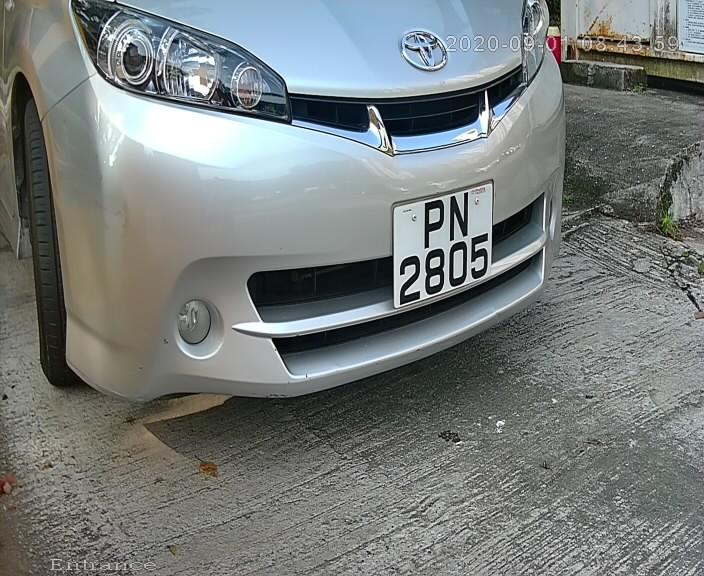License Plate: (387, 175, 503, 314)
